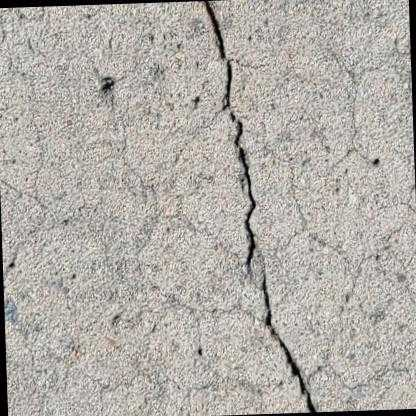crack: (260, 272, 317, 413), (225, 62, 256, 272), (202, 0, 225, 60)
